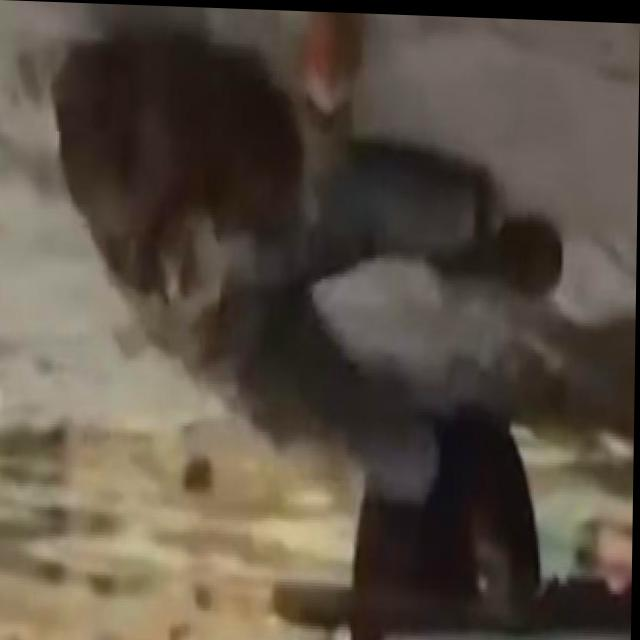fall: (50, 16, 566, 535)
